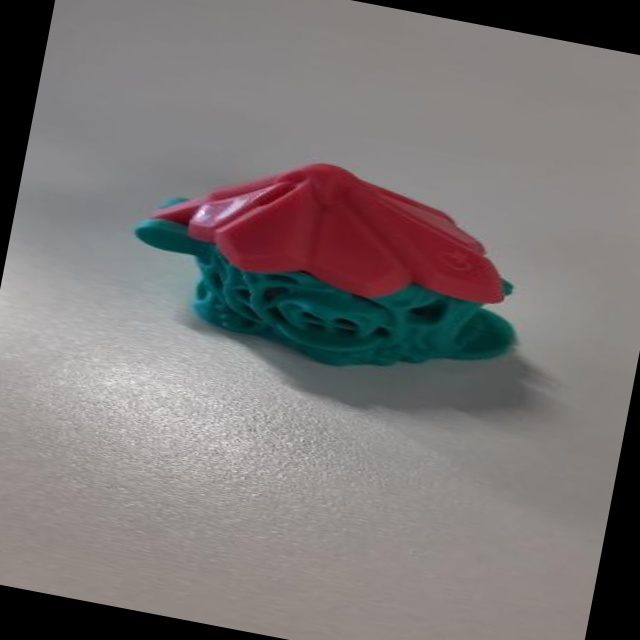House: (100, 113, 561, 405)
